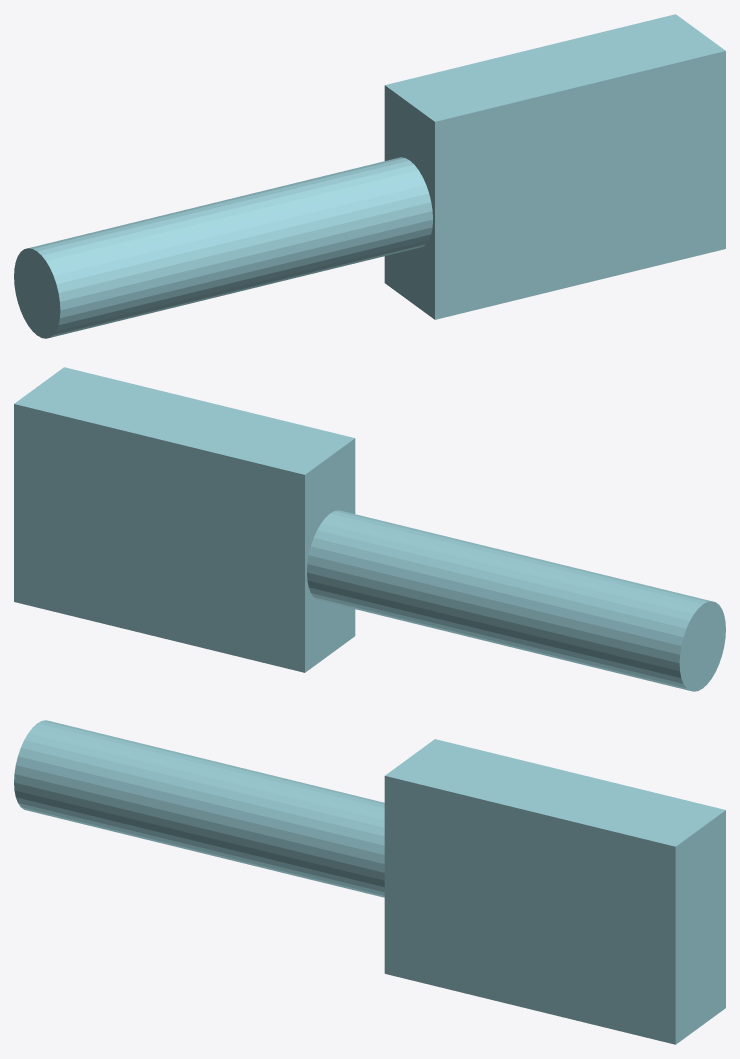
File: cylinder_brush_v11011.obj
The picture shows the model from 3 angles, top to bottom: view 1: azimuth 30°, elevation 25°; view 2: azimuth 150°, elevation 25°; view 3: azimuth 330°, elevation 25°; orthographic projection.
Bounding box in the file's own units: 0.2653 × 0.0756 × 0.0348.
Materials: 1 (1 with a texture image).
